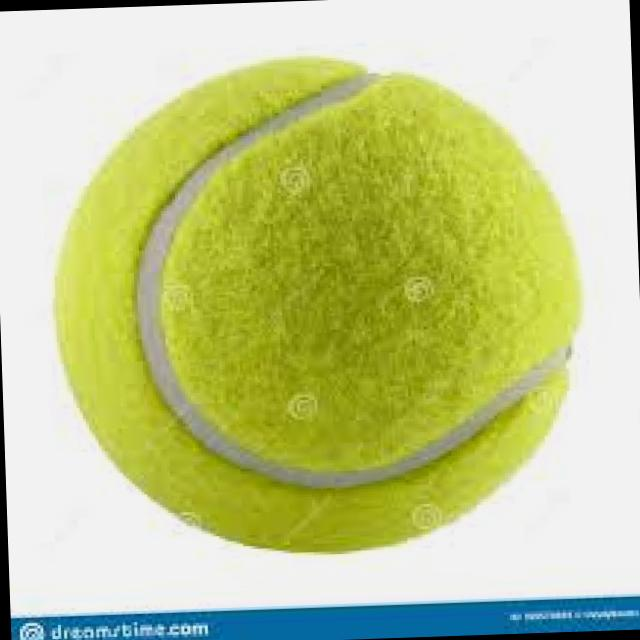Tennis Ball: (51, 55, 584, 556)
